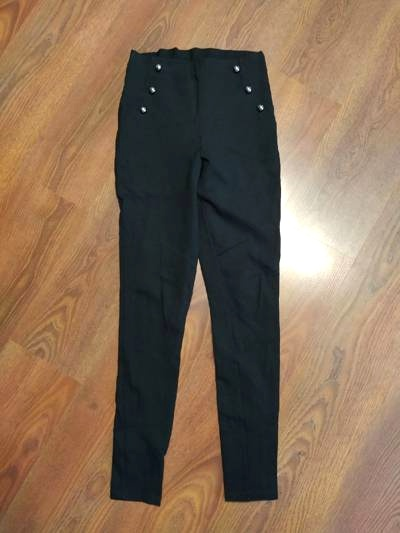Pants: (84, 46, 324, 515)
